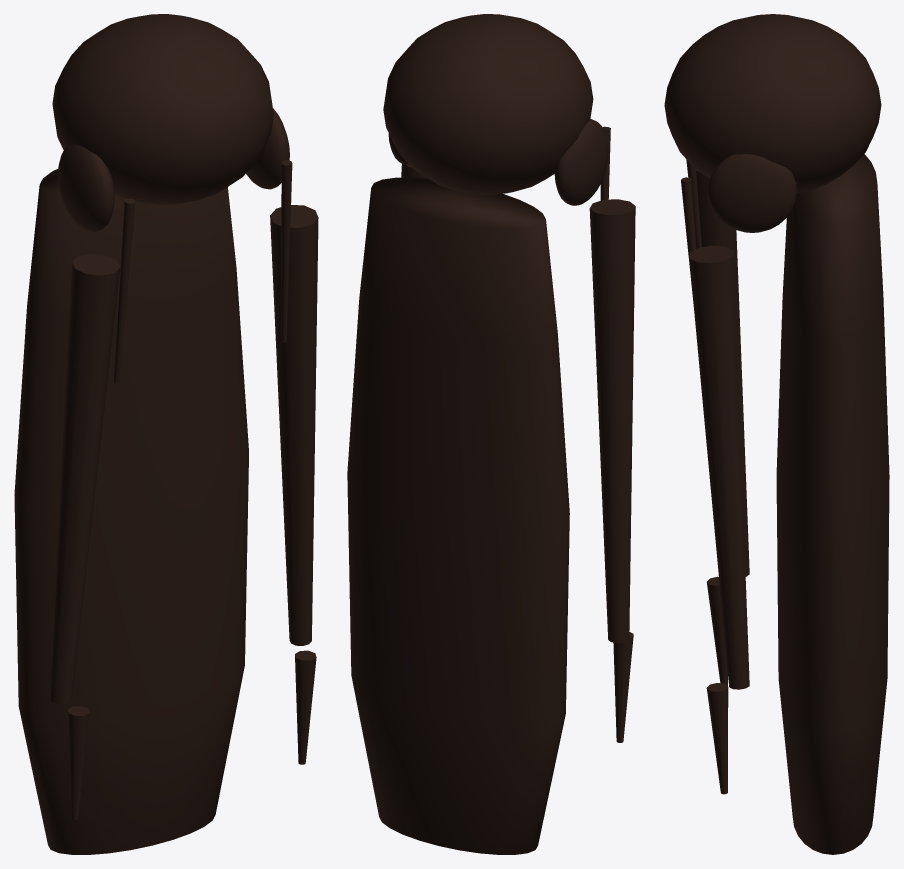
Rendered from hair_f.glb.
3 renders of one model, left to right at view 1: azimuth 30°, elevation 25°; view 2: azimuth 150°, elevation 25°; view 3: azimuth 270°, elevation 25°, orthographic. The views are drawn at different scales.
Bounding box in the file's own units: 0.3199 × 0.974 × 0.251.
